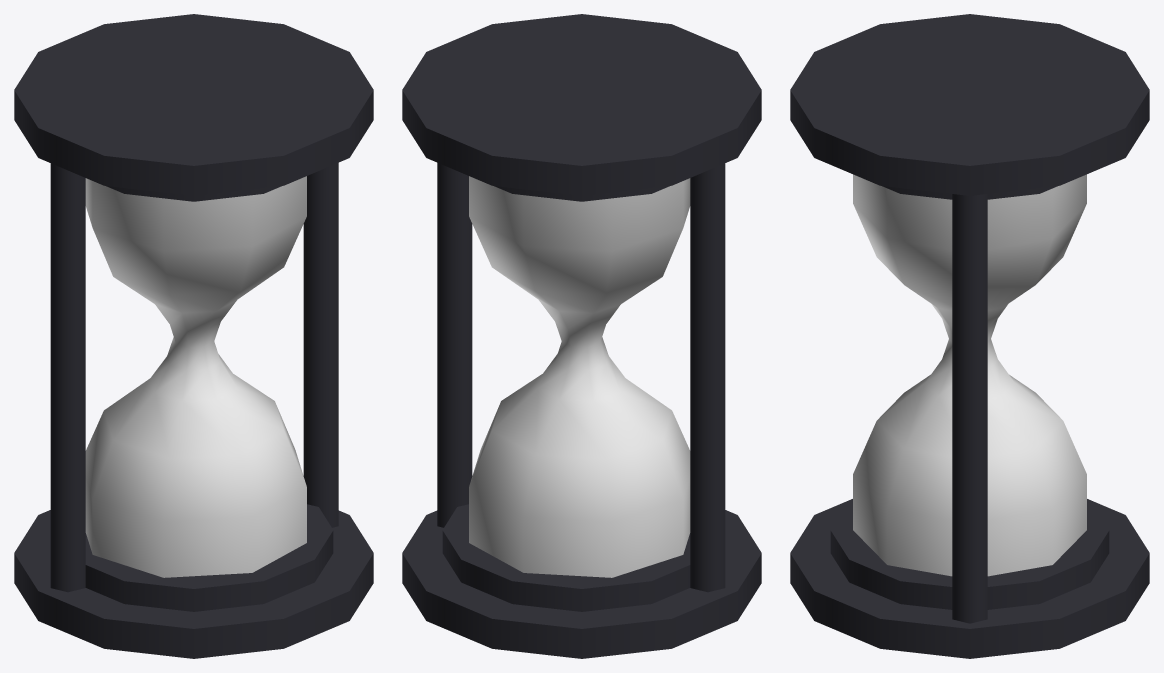
File: HourGlass_01.fbx
The picture shows the model from 3 angles, left to right: view 1: azimuth 30°, elevation 25°; view 2: azimuth 150°, elevation 25°; view 3: azimuth 270°, elevation 25°; orthographic projection.
Parts seen in each view (by area): view 1: HourGlass_01; view 2: HourGlass_01; view 3: HourGlass_01.
Part boxes in pixels (box(x1,y1,x2,y2)): HourGlass_01: box(14, 14, 373, 658); HourGlass_01: box(402, 14, 761, 658); HourGlass_01: box(790, 14, 1149, 658).
Bounding box in the file's own units: 0.2229 × 0.3371 × 0.2229.
